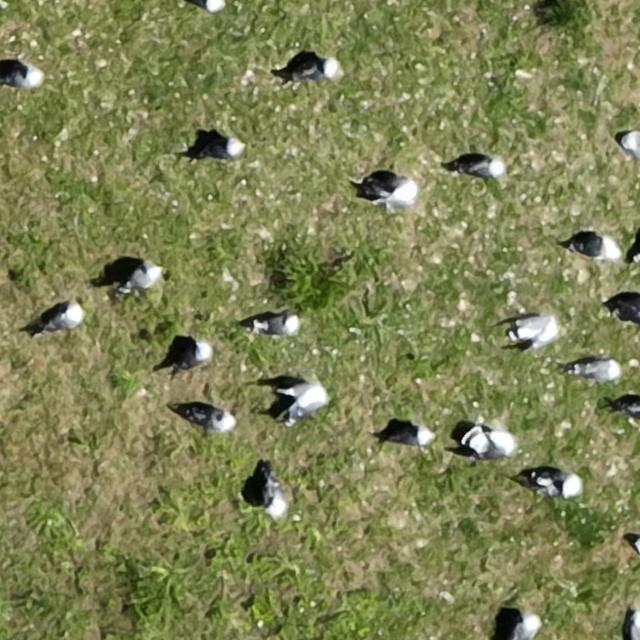umineko: (365, 168, 424, 208), (289, 386, 326, 415), (44, 306, 80, 330), (192, 409, 233, 430), (518, 316, 555, 338), (126, 266, 159, 290), (543, 474, 580, 495), (583, 361, 621, 381), (257, 314, 296, 333), (574, 238, 613, 257), (298, 61, 335, 81), (181, 342, 211, 364), (512, 616, 539, 640), (394, 429, 430, 447), (206, 138, 242, 156), (468, 159, 503, 177), (7, 68, 40, 87), (485, 431, 511, 454), (622, 132, 639, 162), (616, 300, 640, 320), (628, 612, 640, 640), (204, 0, 227, 11)
